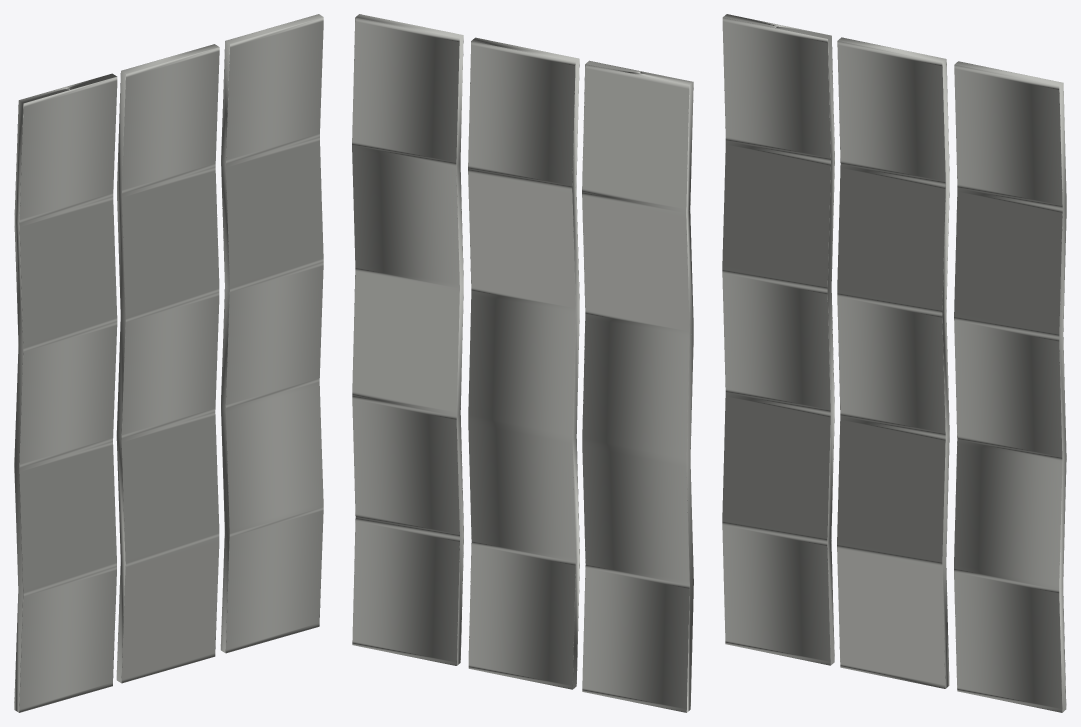
The model's file is iss-radiators-port.glb.
The picture shows the model from 3 angles, left to right: view 1: azimuth 30°, elevation 25°; view 2: azimuth 150°, elevation 25°; view 3: azimuth 330°, elevation 25°; orthographic projection. The views are drawn at different scales.
Parts seen in each view (by area): view 1: radiators-port; view 2: radiators-port; view 3: radiators-port.
Boxes of the visible parts, <box> form: radiators-port: <box>14,14,323,712</box>; radiators-port: <box>352,14,693,712</box>; radiators-port: <box>722,14,1066,712</box>.
Size of the model in its own units: 10.47 by 19.42 by 1.24.
1 material, 1 textured.
